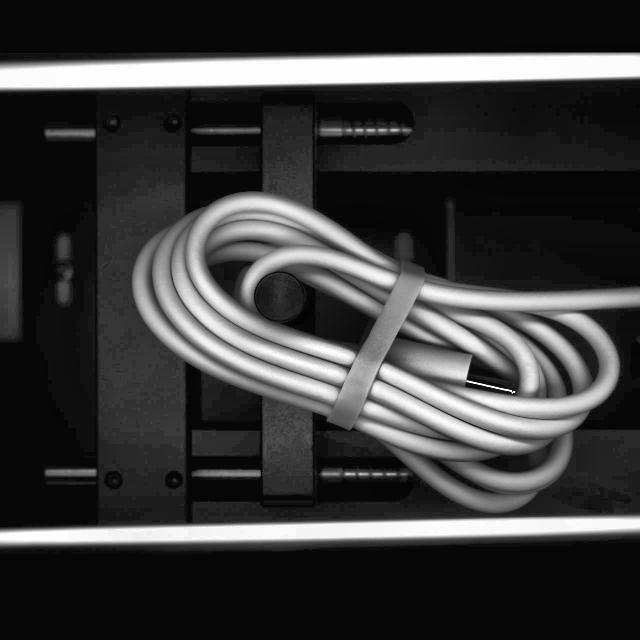Cable: (126, 186, 640, 516)
